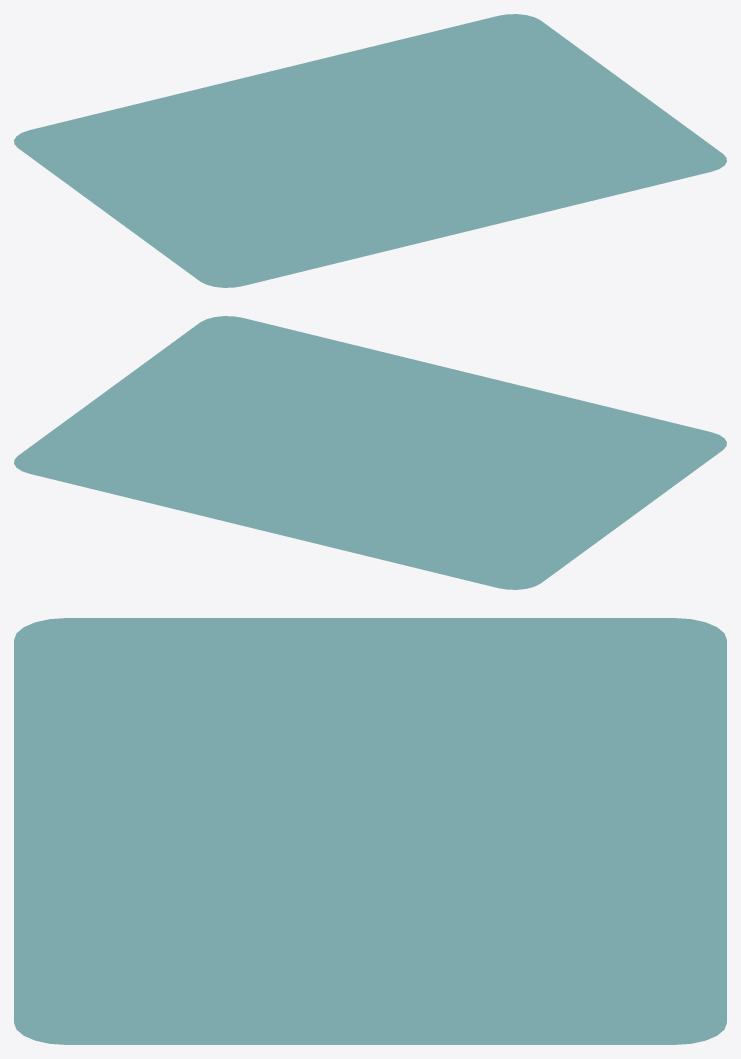
Rendered from FishPond_Cozy_Water.fbx.
The picture shows the model from 3 angles, top to bottom: view 1: azimuth 30°, elevation 25°; view 2: azimuth 150°, elevation 25°; view 3: azimuth 270°, elevation 25°; orthographic projection. The views are drawn at different scales.
Visible parts, largest first — view 1: FishPond_Cozy_Water; view 2: FishPond_Cozy_Water; view 3: FishPond_Cozy_Water.
Part boxes in pixels (x1,y1,x2,y2): FishPond_Cozy_Water: (14,14,726,287); FishPond_Cozy_Water: (14,316,726,589); FishPond_Cozy_Water: (14,618,726,1044).
Bounding box in the file's own units: 6.8 × 7.82e-07 × 4.8.
